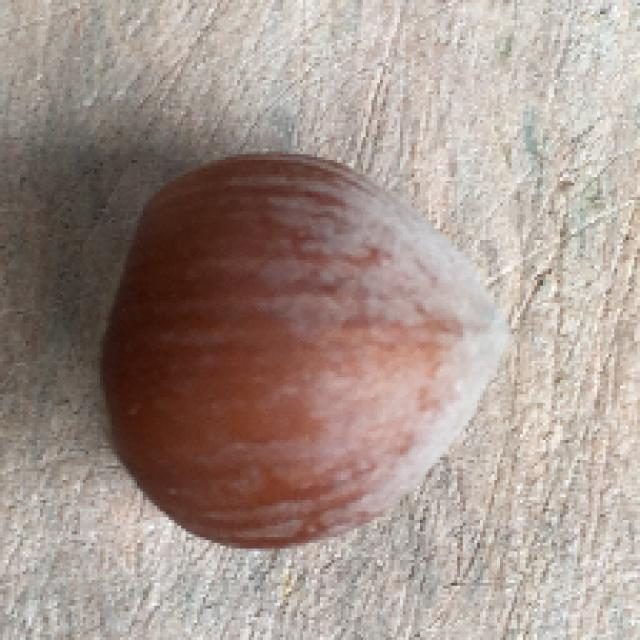QualityHazelnut: (79, 145, 513, 553)
